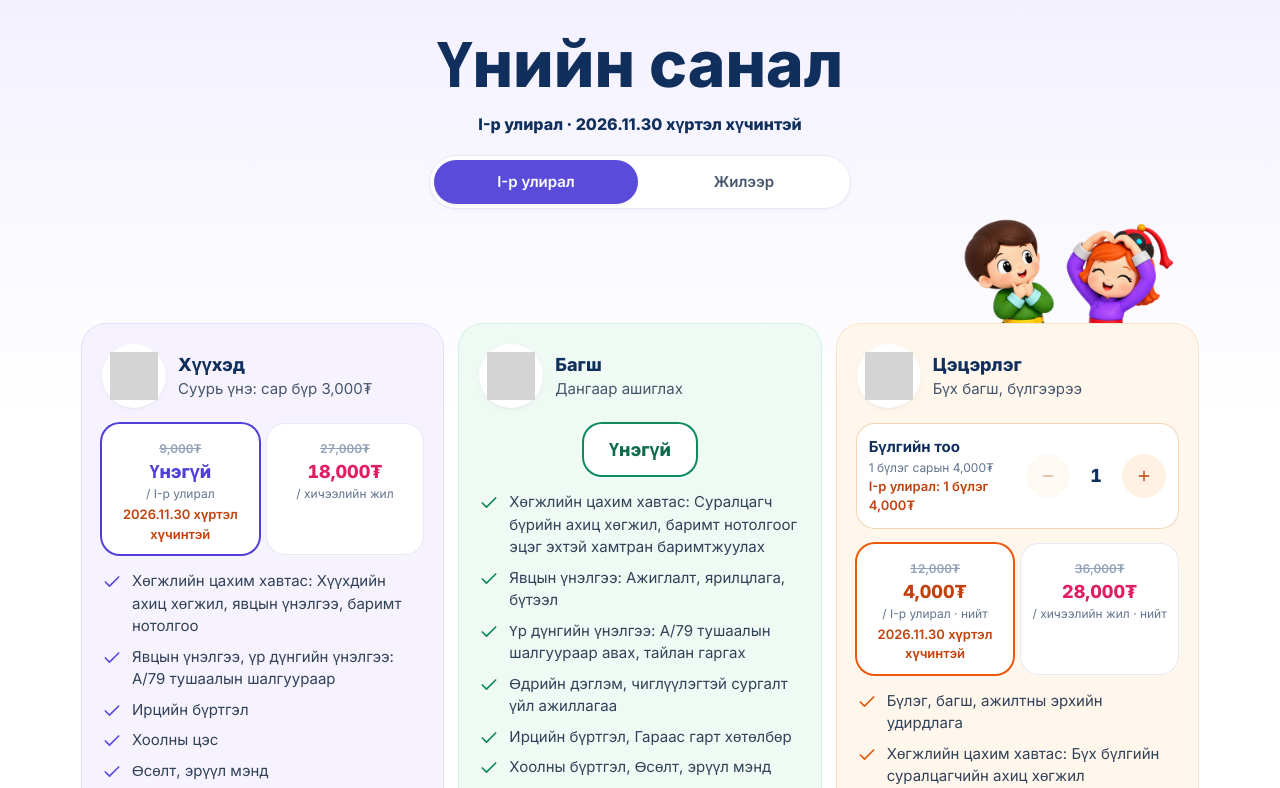
Test: the pricing page › passes the selected groups and yearly period into the contract request
Click the button named "Бүлгийн тоо нэмэх": point(1144, 476) top-left (1122, 454), bottom-right (1166, 498)
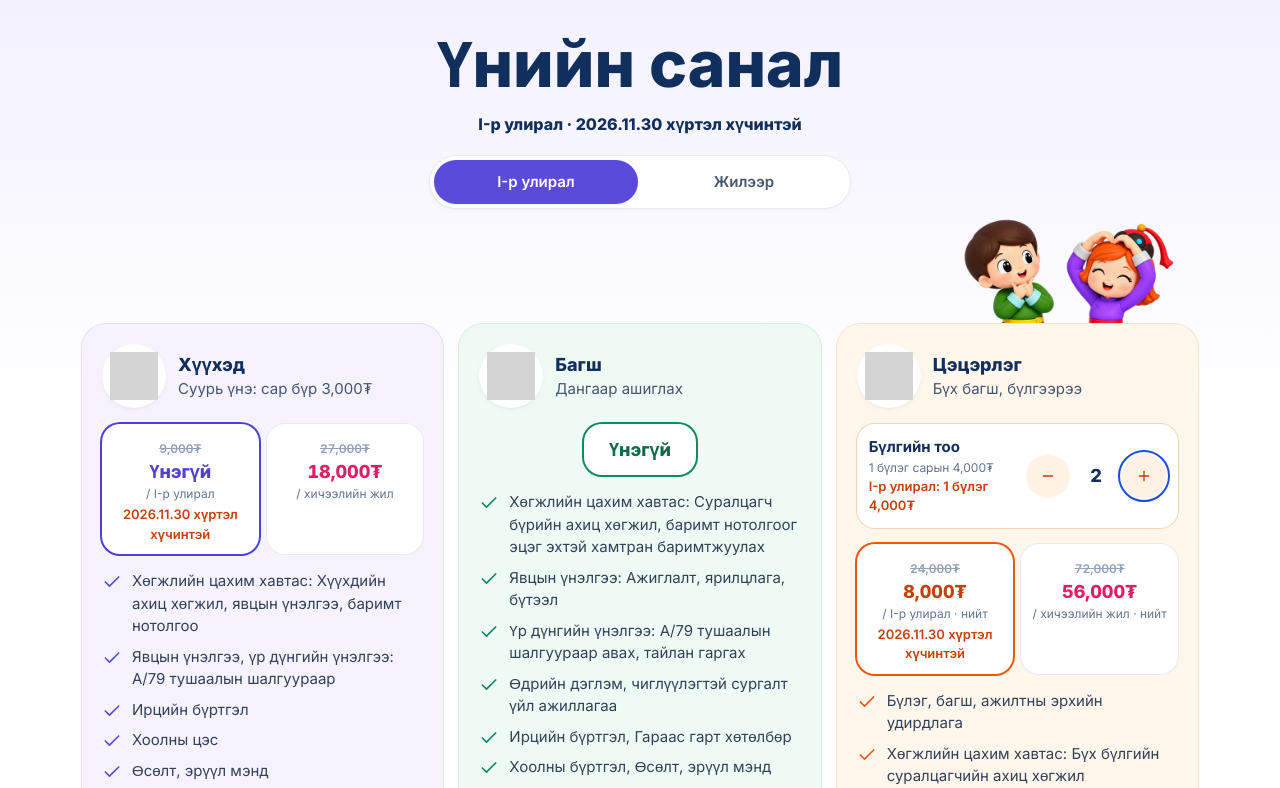
Click the radio button labelled "Жилээр": point(744, 182) top-left (642, 160), bottom-right (846, 204)
(page scrolled)
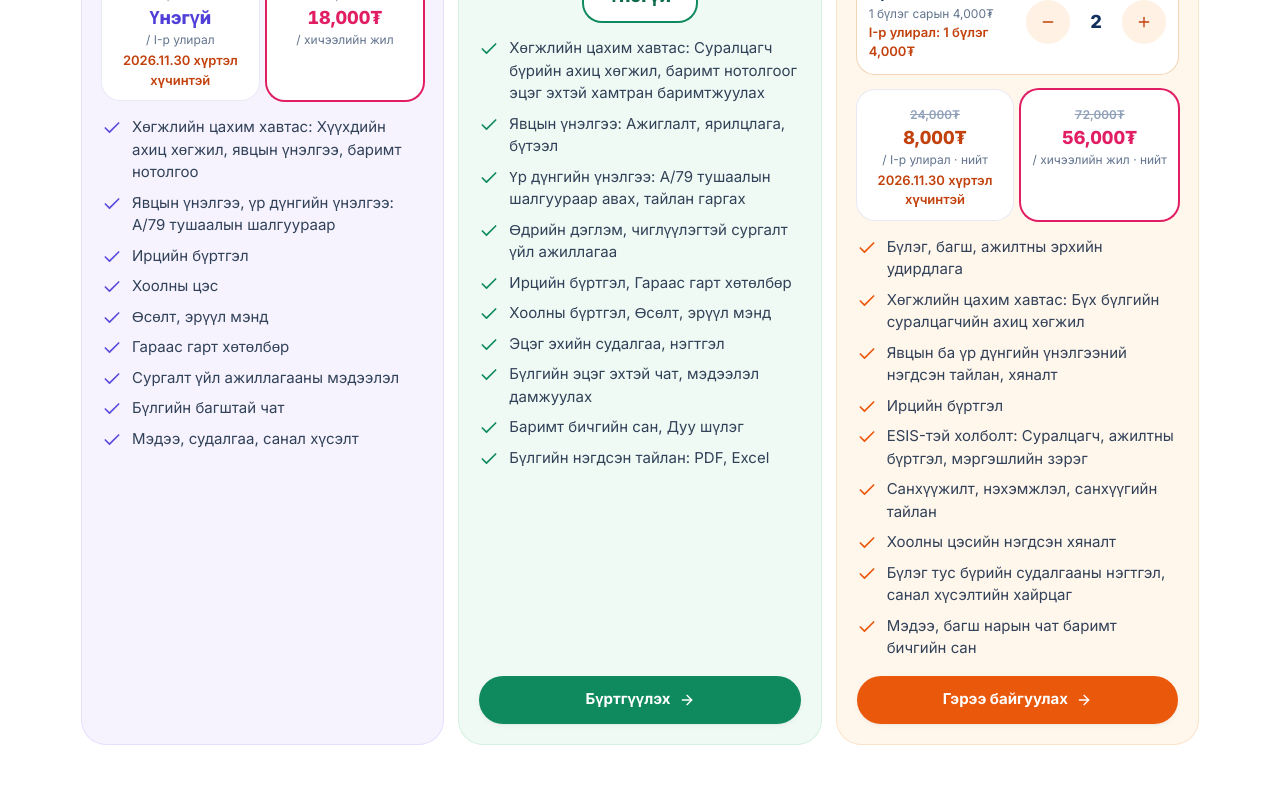
Click the button "Гэрээ байгуулах": point(1017, 700) top-left (857, 676), bottom-right (1178, 724)
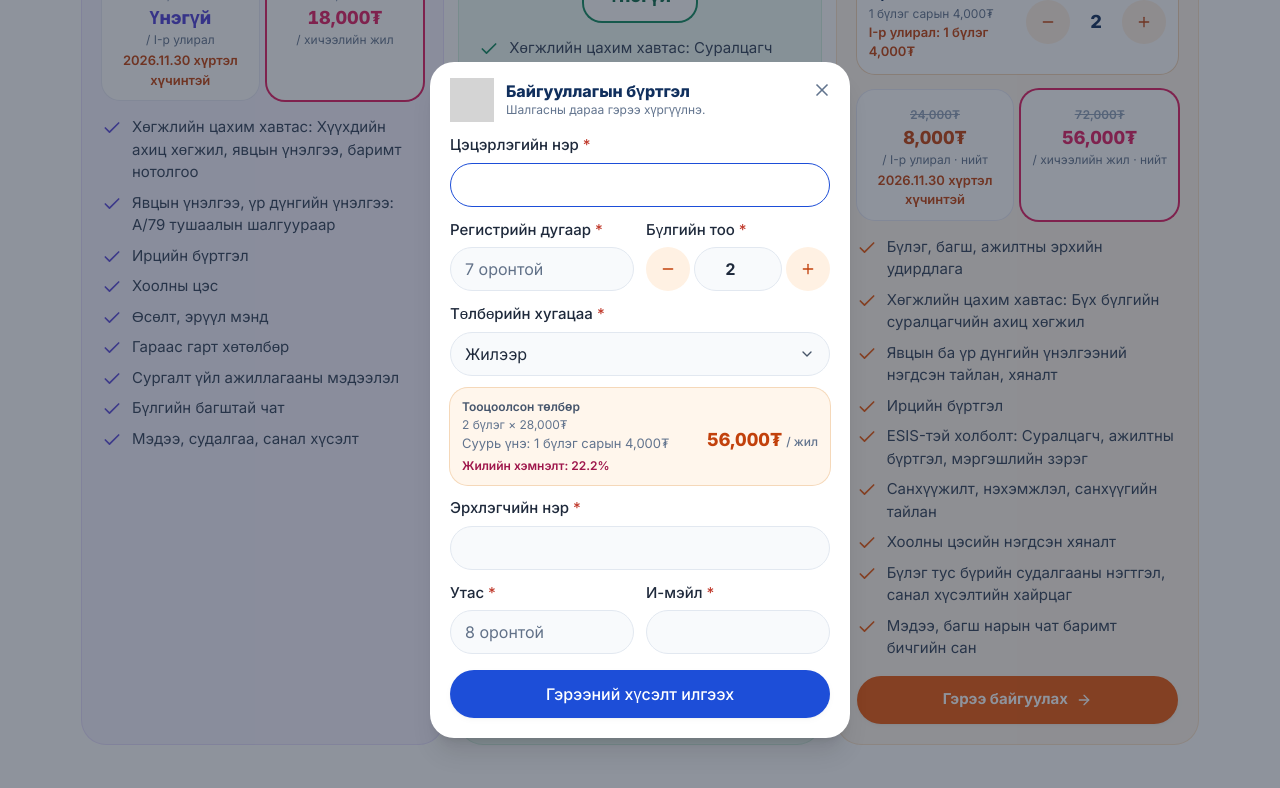
Expected: the number field labelled "Бүлгийн тоо *" holds "2", top-left (694, 247), bottom-right (782, 291)
Expected: the dropdown named "Төлбөрийн хугацаа" reads "Жилээр", top-left (450, 332), bottom-right (830, 376)
Expected: the text "56,000₮" is shown, top-left (707, 429), bottom-right (782, 450)
